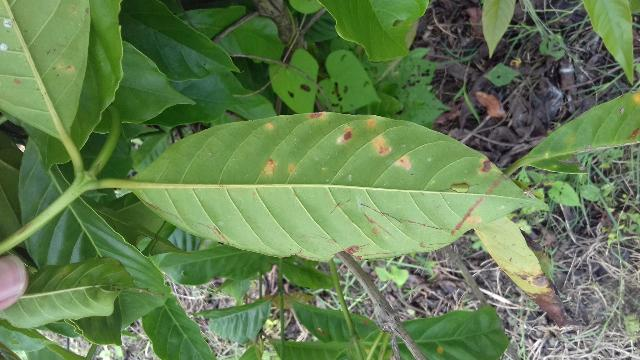rust_level_2: (96, 115, 548, 261)
